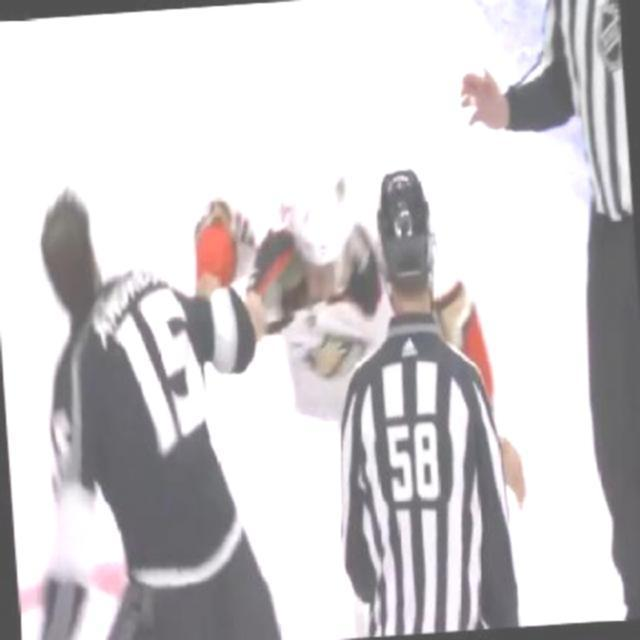fight: (28, 144, 404, 638)
